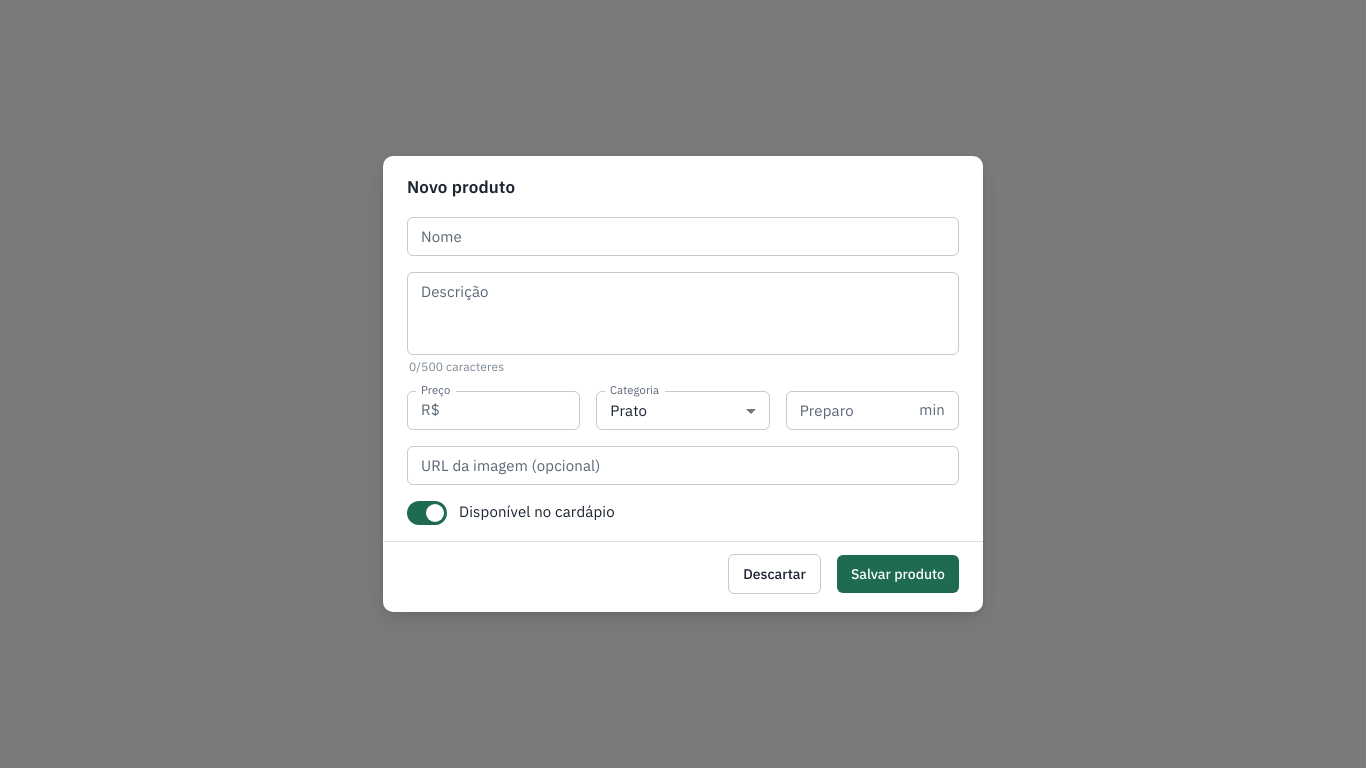
Test: ProductFormDialog › validates fields while the operator types
The width and height of the screenshot is (1366, 768).
Type "Ab" into the field labelled "Nome" at (683,236), box [407,217,959,256]
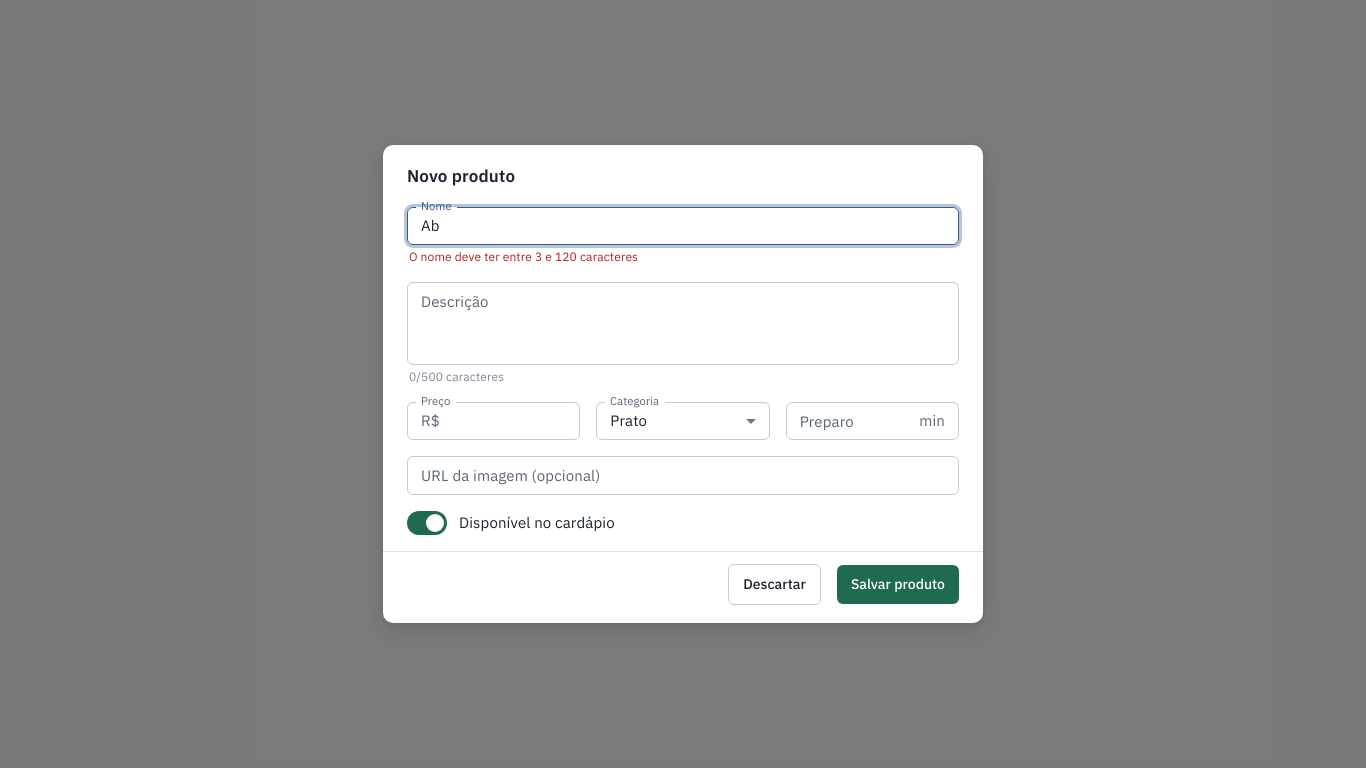
Type "10,999" into the field labelled "Preço" at (514,421), box [448,402,580,440]
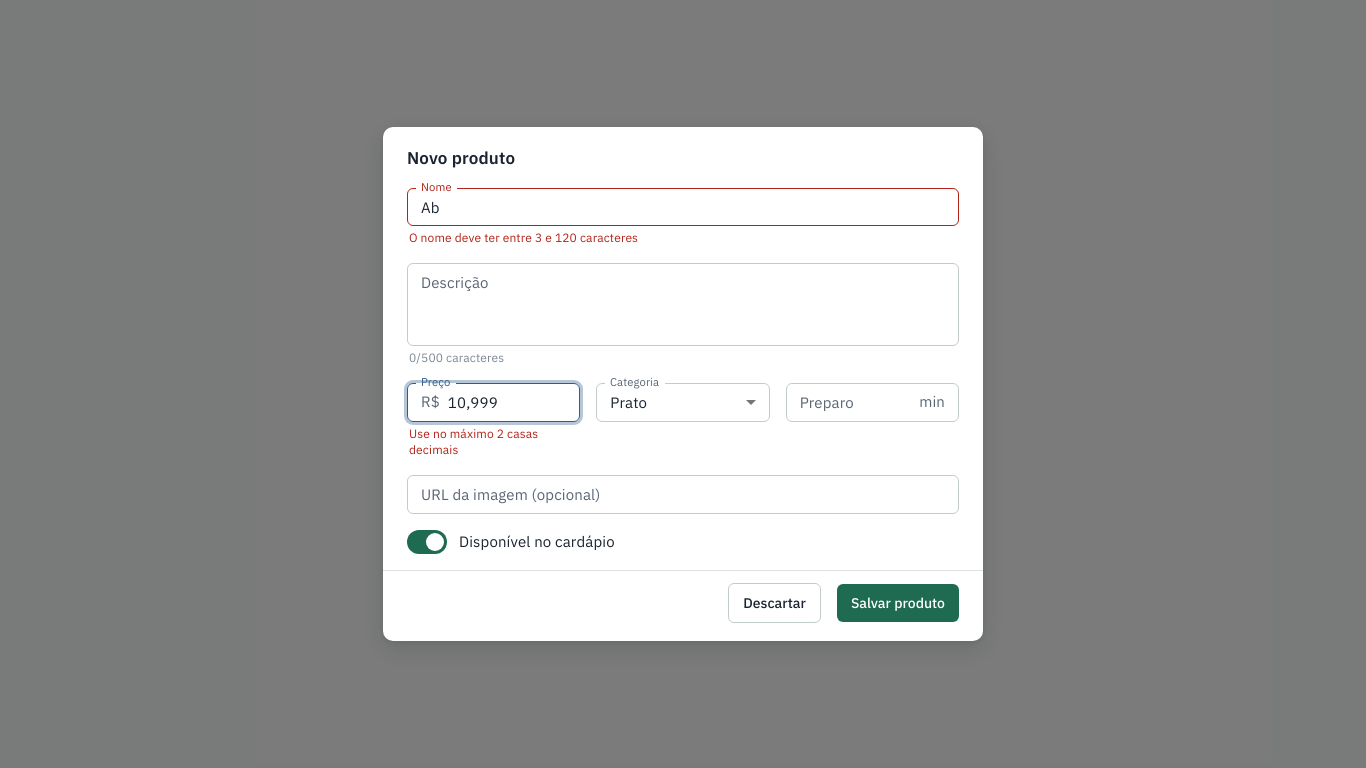
Now the text "O nome deve ter entre 3 e 120 caracteres" is shown, box [409,230,638,245]
Now the text "Use no máximo 2 casas decimais" is shown, box [409,426,538,457]
Type "c" into the field labelled "Nome" at (683,207), box [407,188,959,226]
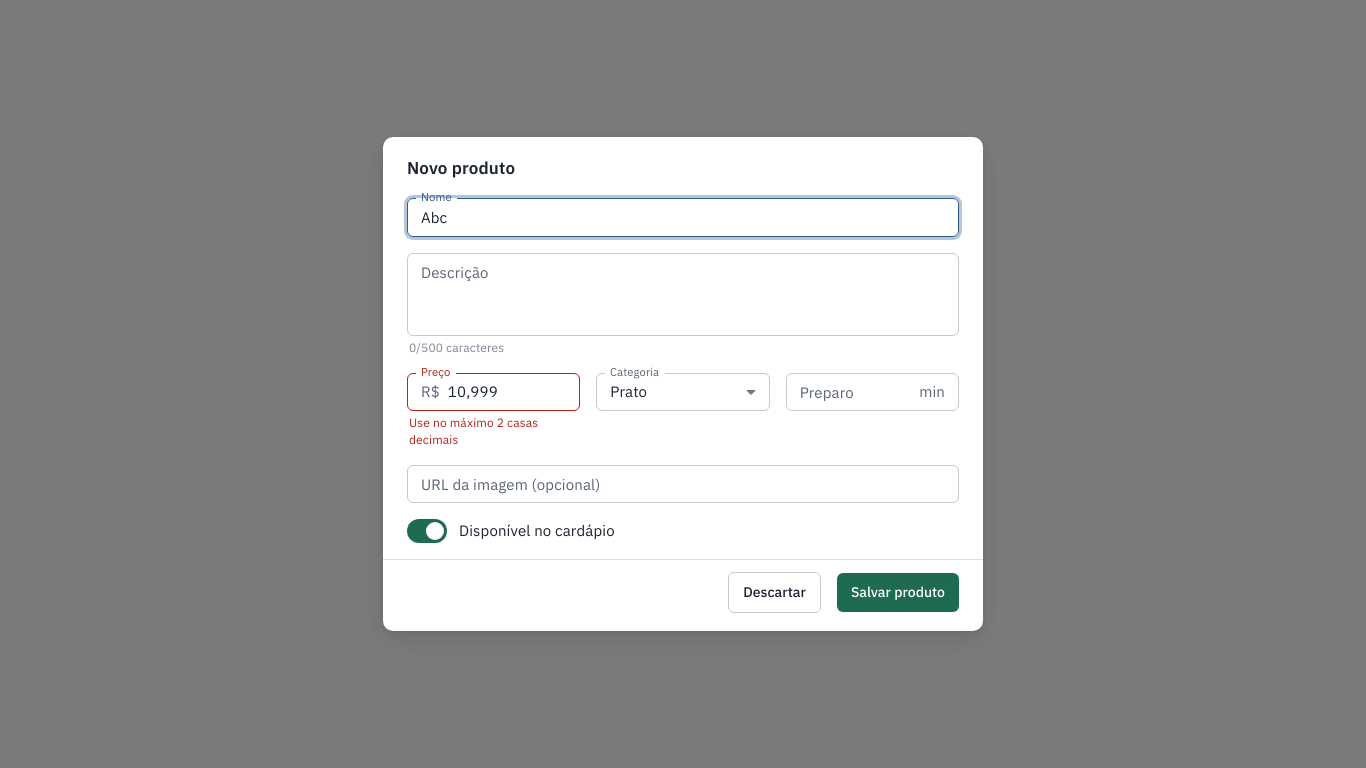
Now the text "O nome deve ter entre 3 e 120 caracteres" is gone
